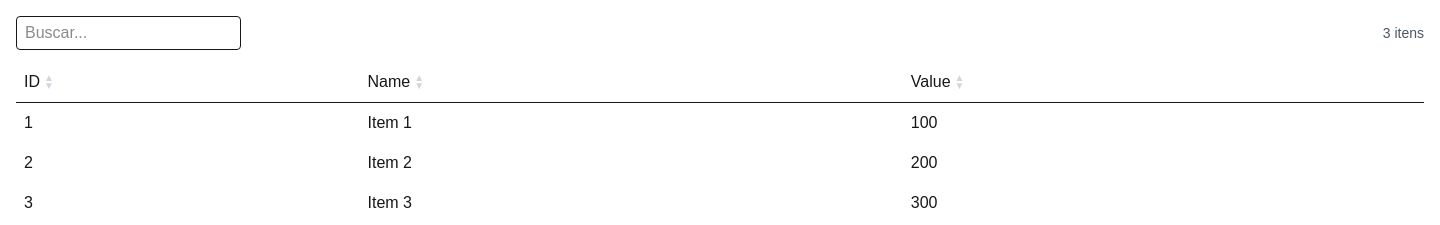
DataGrid Component › Filtering › deve filtrar itens pelo texto do campo de busca
Step 1. Type "Item 1" into the field with placeholder "Buscar..." → (128, 33), box [16,16,241,50]
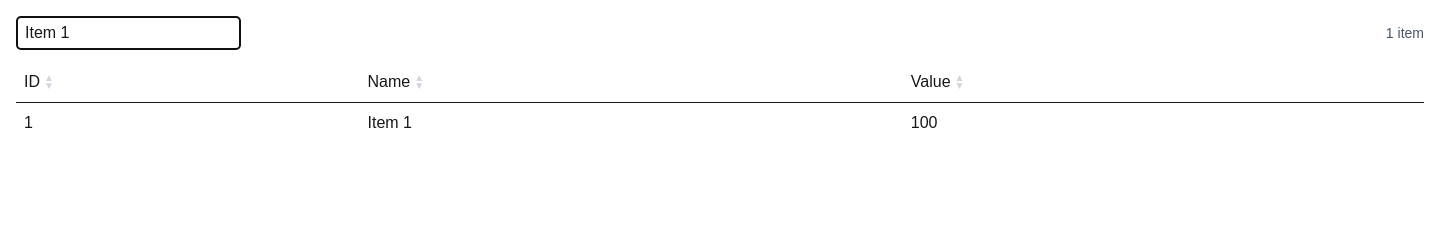
Expected: the text "Item 1" is shown, [360,102,903,143]
Now the text "Item 2" is gone
Now the text "Item 3" is gone
